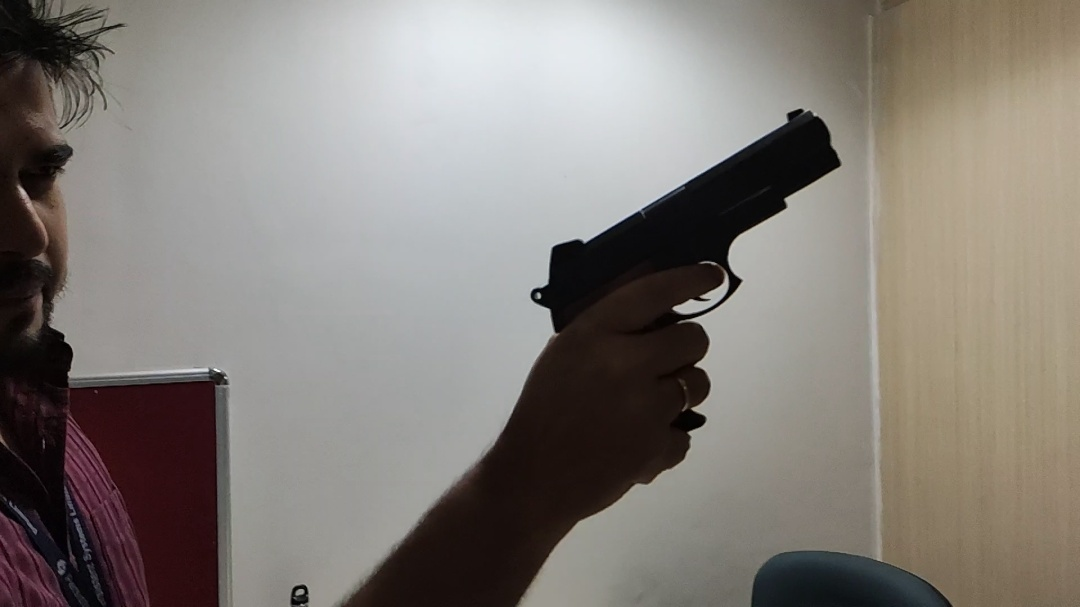gun: (530, 106, 844, 437)
